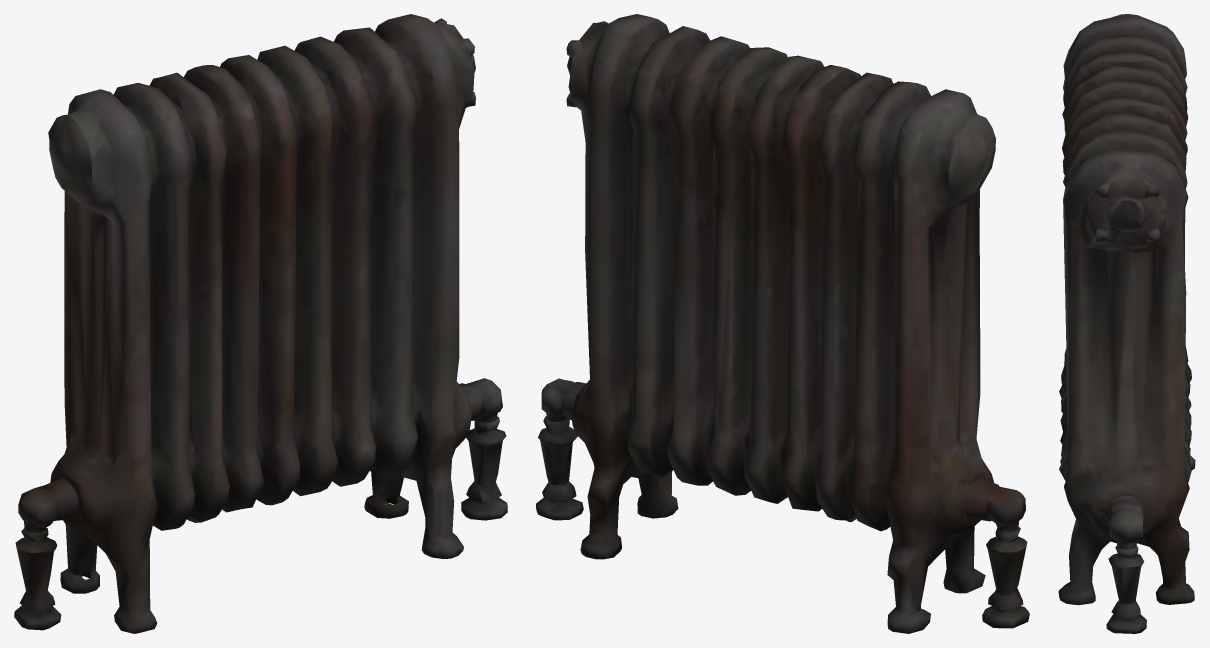
File: old-iron-radiator-v001.glb
3 renders of one model, left to right at view 1: azimuth 30°, elevation 25°; view 2: azimuth 150°, elevation 25°; view 3: azimuth 270°, elevation 25°, orthographic. The views are drawn at different scales.
Parts seen in each view (by area): view 1: old-iron-radiator; view 2: old-iron-radiator; view 3: old-iron-radiator.
Boxes of the visible parts, x1,y1,x2,y2 form: old-iron-radiator: [14, 14, 507, 633]; old-iron-radiator: [536, 14, 1029, 633]; old-iron-radiator: [1058, 14, 1195, 633].
Size of the model in its own units: 0.7069 by 0.7074 by 0.1966.
Materials: 1 (1 with a texture image).
